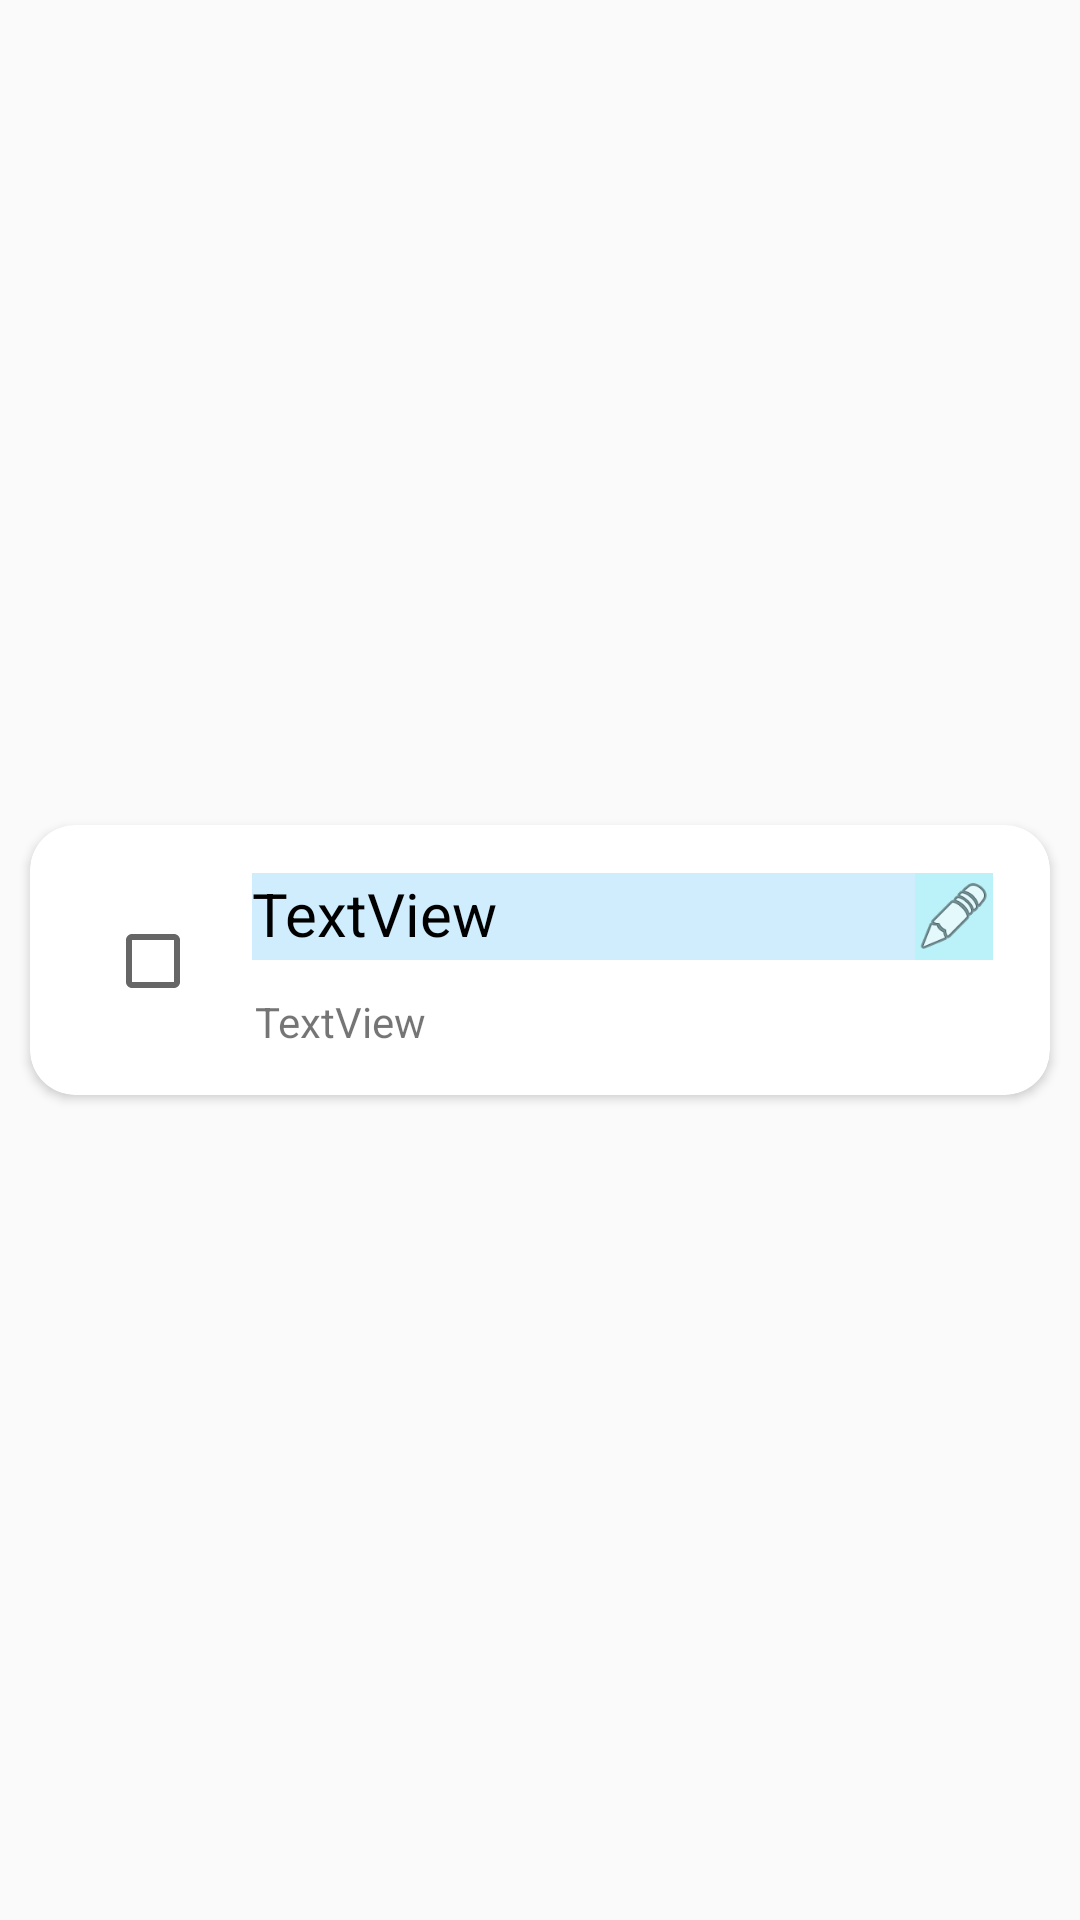

Named icons in this screenshot (1080w x 1920h) and their centers, (x=x, y=y):
edit: (x=954, y=916)
